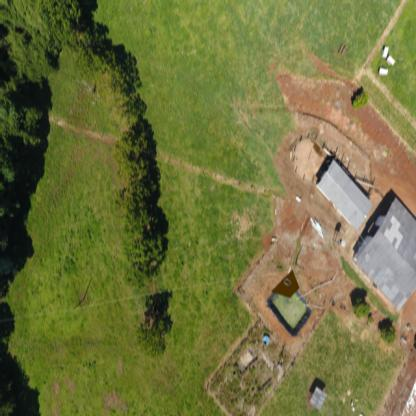0: (282, 277, 293, 288)
trapezium: (269, 270, 302, 301)
